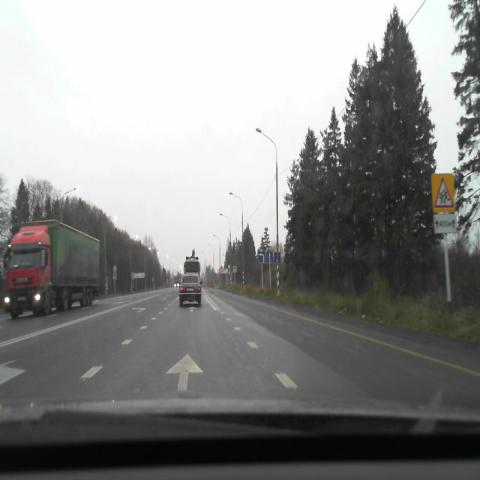8_2_1: (434, 214, 457, 234)
